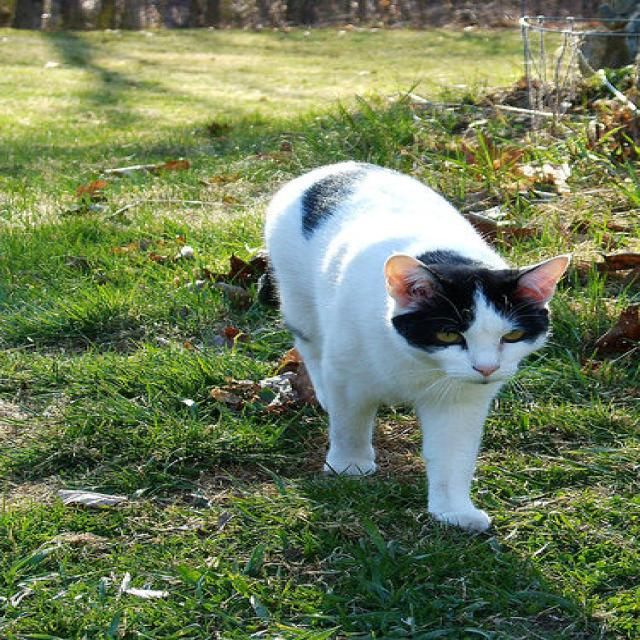cat: (262, 160, 573, 536)
